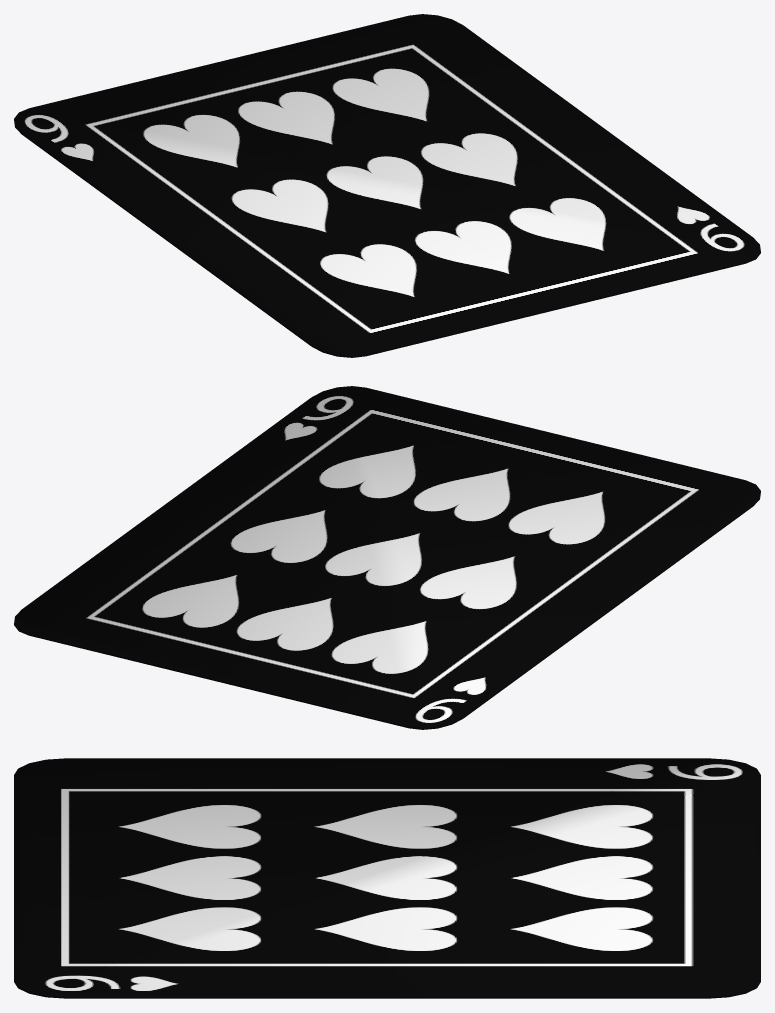
The model's file is Neuf_de_coeur.gltf.
3 views of the same model, one above another, from view 1: azimuth 30°, elevation 25°; view 2: azimuth 150°, elevation 25°; view 3: azimuth 270°, elevation 25° (orthographic). The views are drawn at different scales.
Visible parts, largest first — view 1: Plane.001; view 2: Plane.001; view 3: Plane.001.
Boxes of the visible parts, x1,y1,x2,y2 form: Plane.001: (14,14,760,357); Plane.001: (14,386,760,729); Plane.001: (14,758,760,998).
Bounding box in the file's own units: 3.59 × 0.01 × 4.74.
2 materials, 2 textured.
